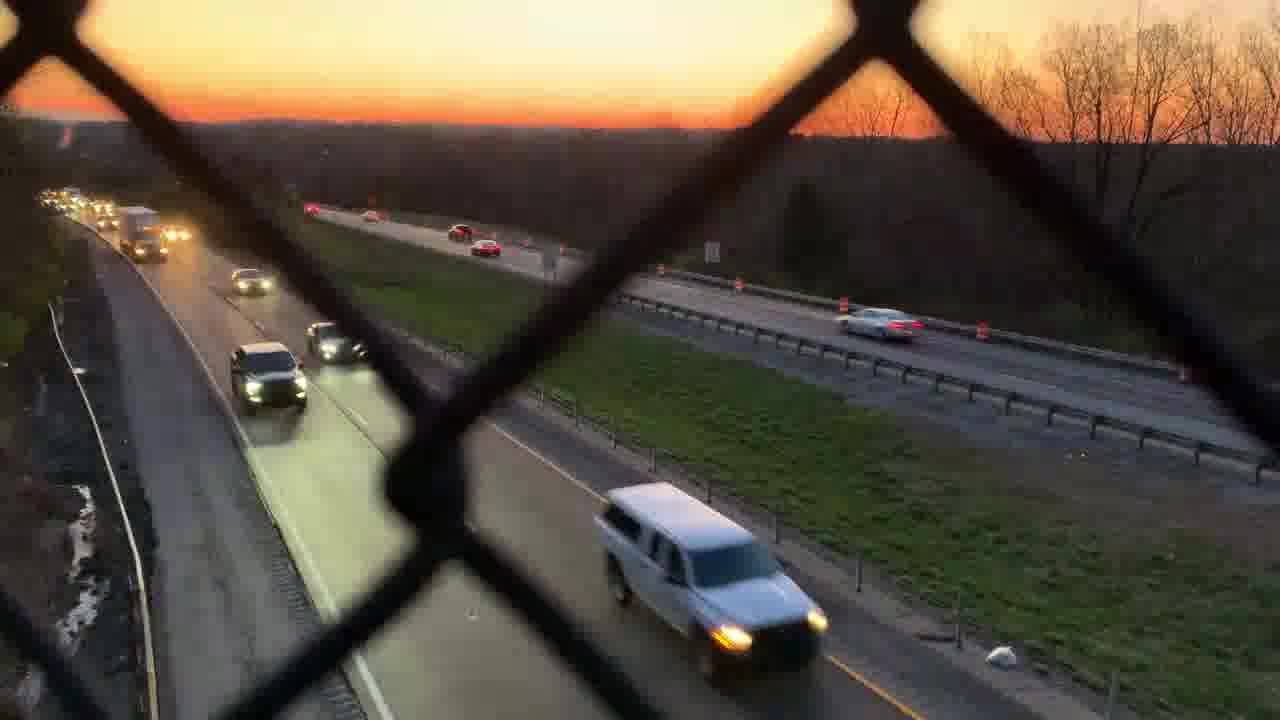heavyTruck: (115, 206, 168, 264)
largeCar: (599, 478, 833, 675)
lightTruck: (225, 339, 315, 413)
smallCar: (838, 301, 920, 344), (306, 323, 362, 370), (230, 266, 272, 296), (466, 240, 505, 256)
